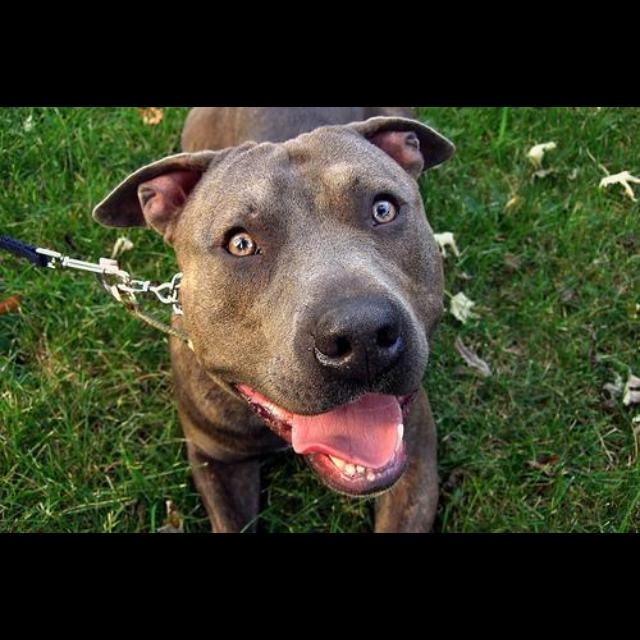amstaff: (91, 111, 458, 533)
